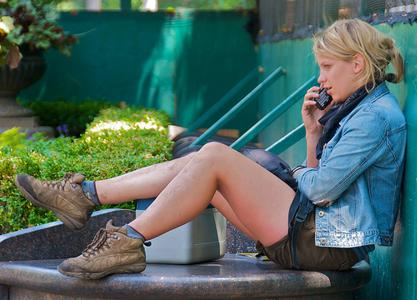person: (13, 18, 409, 281)
